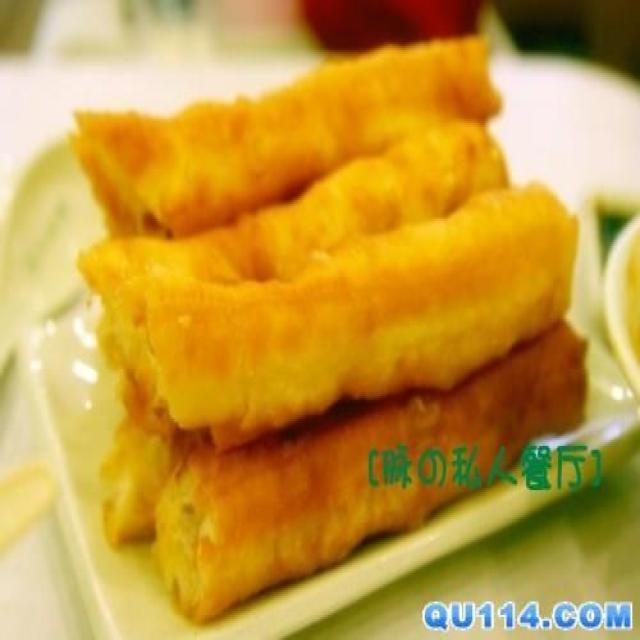炸货点心: (50, 38, 591, 617)
